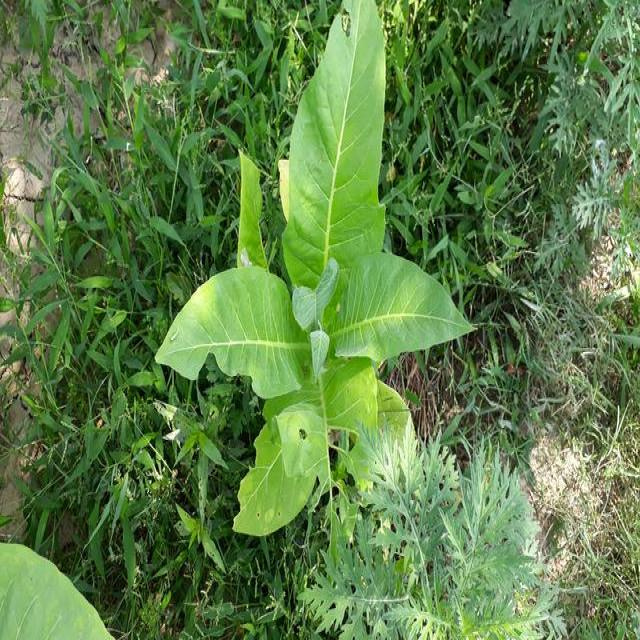crop: (165, 18, 478, 524)
